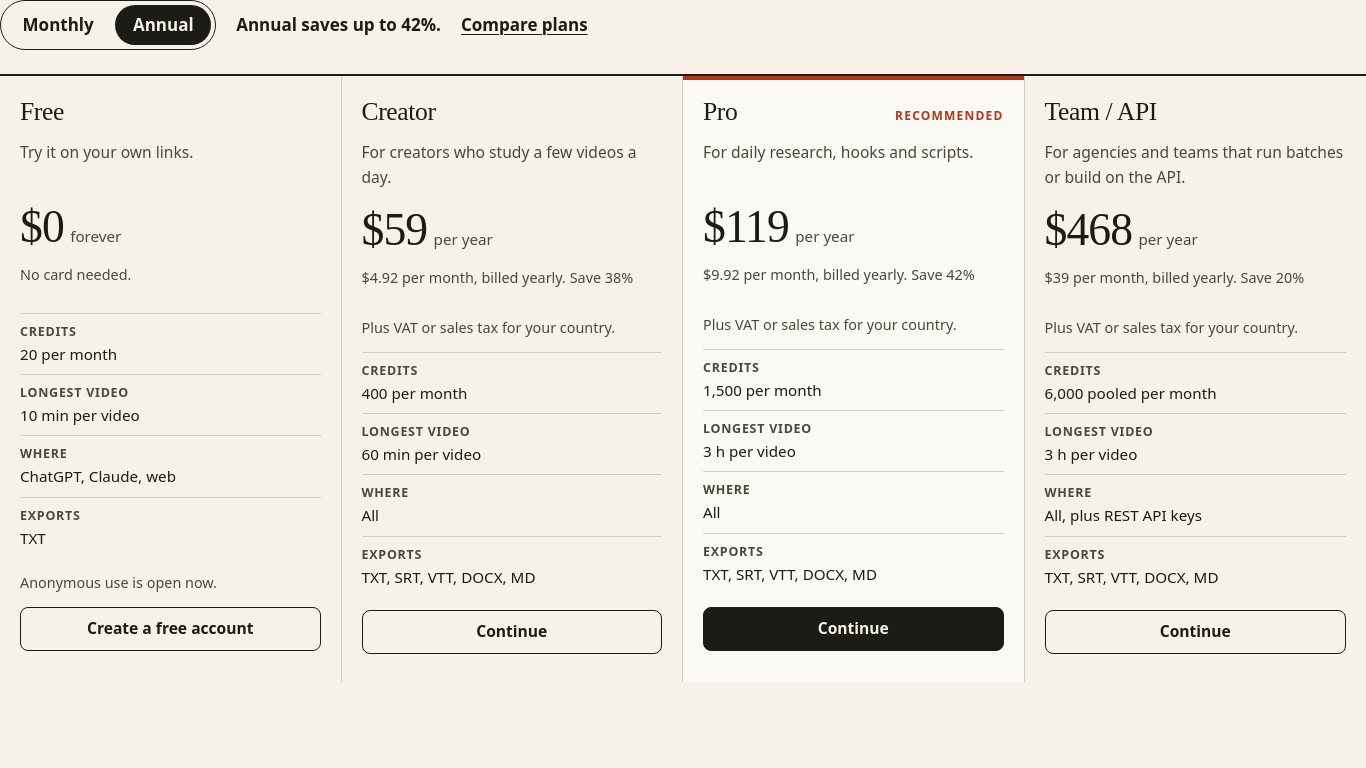
PricingPlans › switches prices when the toggle changes
The width and height of the screenshot is (1366, 768).
Click the button "Monthly". click: (58, 25)
box: [5,5,111,45]
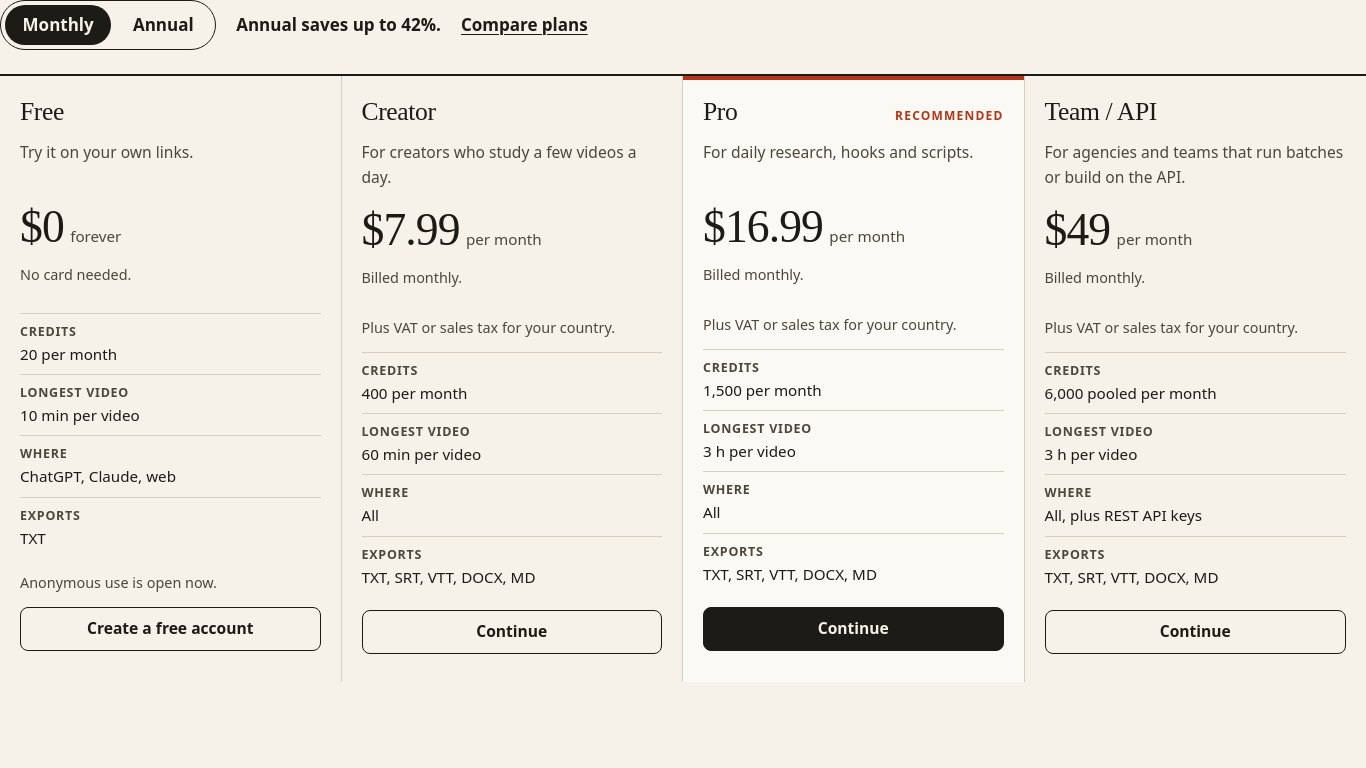
Expected: the text "Plus VAT or sales tax for your country." below "$7.99" is shown, [362,318,615,337]
Result: the text "$7.99" is shown at [362,207,460,253]
Result: the text "Billed monthly." below "$7.99" is shown at [362,268,462,287]
